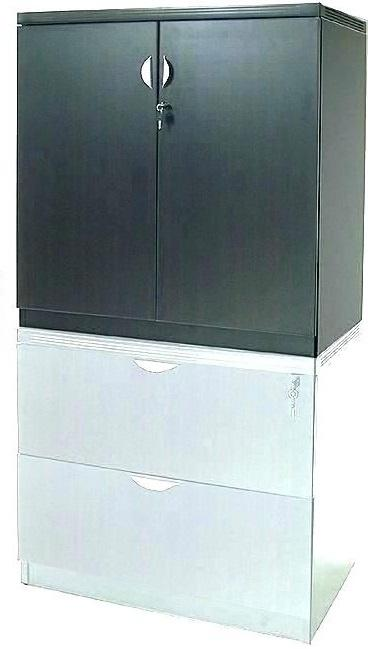cabinet_door: (160, 23, 320, 352), (16, 23, 158, 337), (11, 477, 310, 610), (17, 344, 326, 472)
handle: (134, 348, 181, 382), (131, 467, 174, 500), (139, 51, 153, 94), (161, 51, 173, 93)
